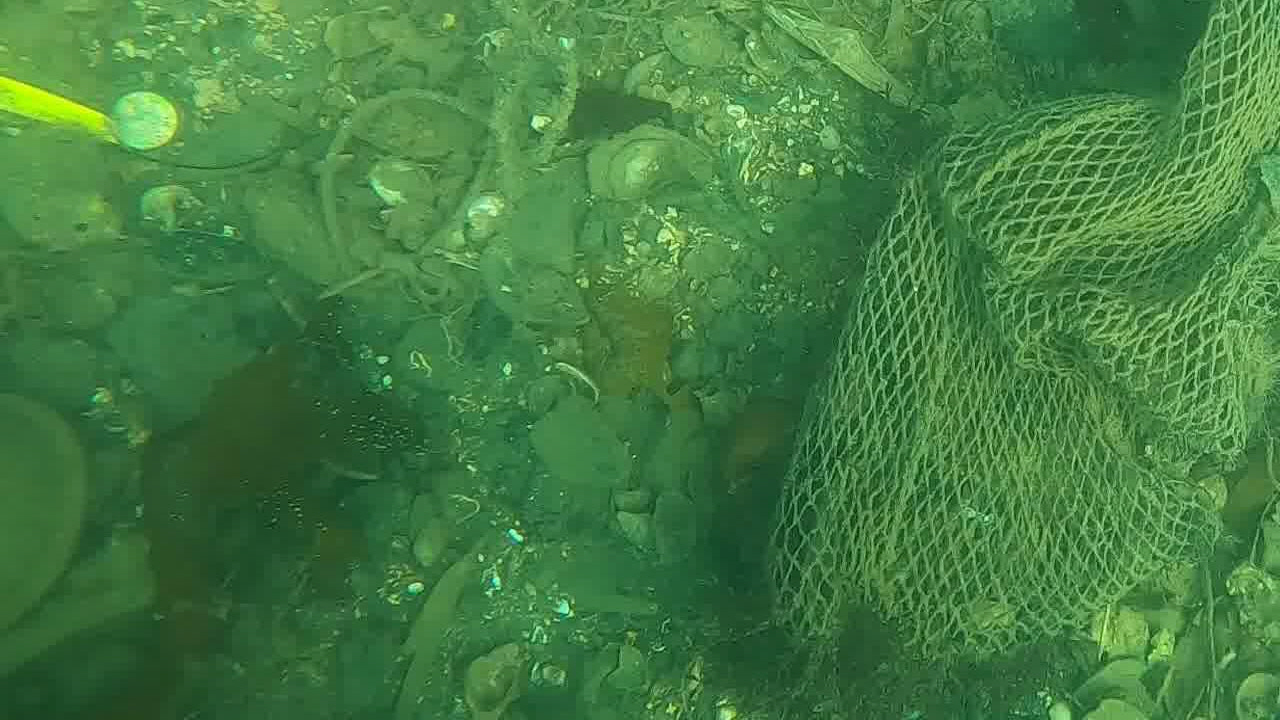fish net: (767, 0, 1280, 651)
